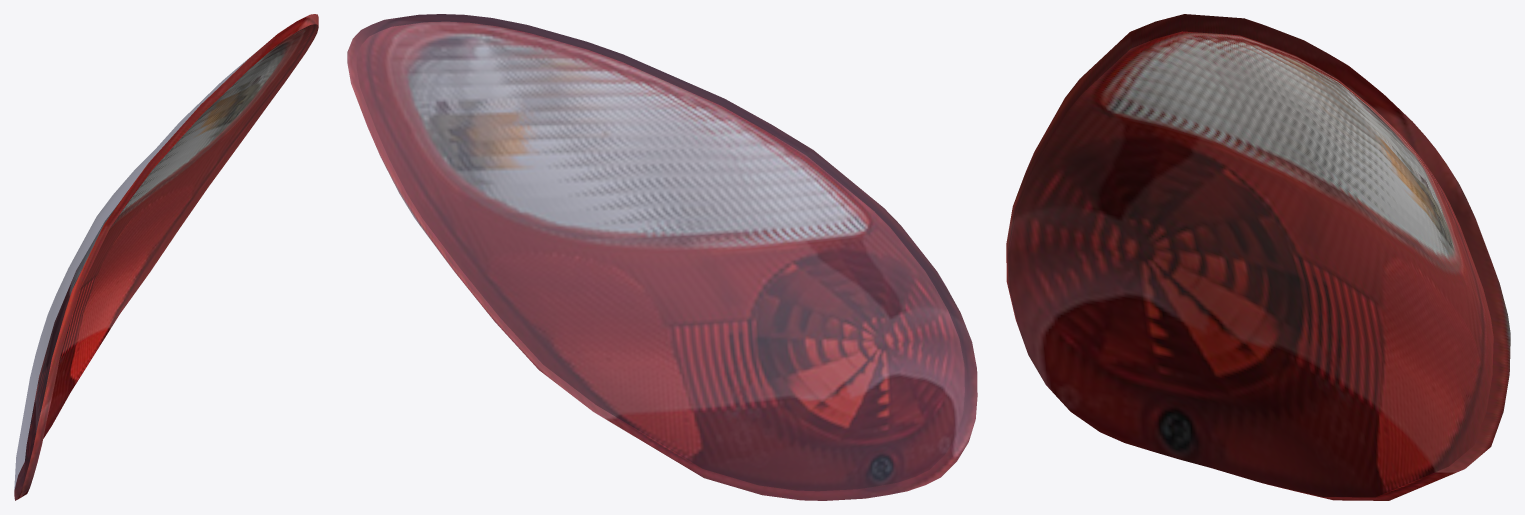
3 renders of one model, left to right at view 1: azimuth 30°, elevation 25°; view 2: azimuth 150°, elevation 25°; view 3: azimuth 270°, elevation 25°, orthographic. The views are drawn at different scales.
Parts seen in each view (by area): view 1: M720_541C_L_M720_541C_L_2_N, M720_541C_L_1_DTaSI_M720_541C_L; view 2: M720_541C_L_M720_541C_L_2_N, M720_541C_L_1_DTaSI_M720_541C_L; view 3: M720_541C_L_M720_541C_L_2_N.
Part boxes in pixels (left/top/right/bottom): M720_541C_L_M720_541C_L_2_N: left=14, top=14, right=318, bottom=500; M720_541C_L_1_DTaSI_M720_541C_L: left=14, top=54, right=253, bottom=500; M720_541C_L_M720_541C_L_2_N: left=347, top=14, right=977, bottom=500; M720_541C_L_1_DTaSI_M720_541C_L: left=347, top=14, right=977, bottom=500; M720_541C_L_M720_541C_L_2_N: left=1006, top=14, right=1510, bottom=500.
Size of the model in its own units: 34.59 by 28.54 by 18.95.
